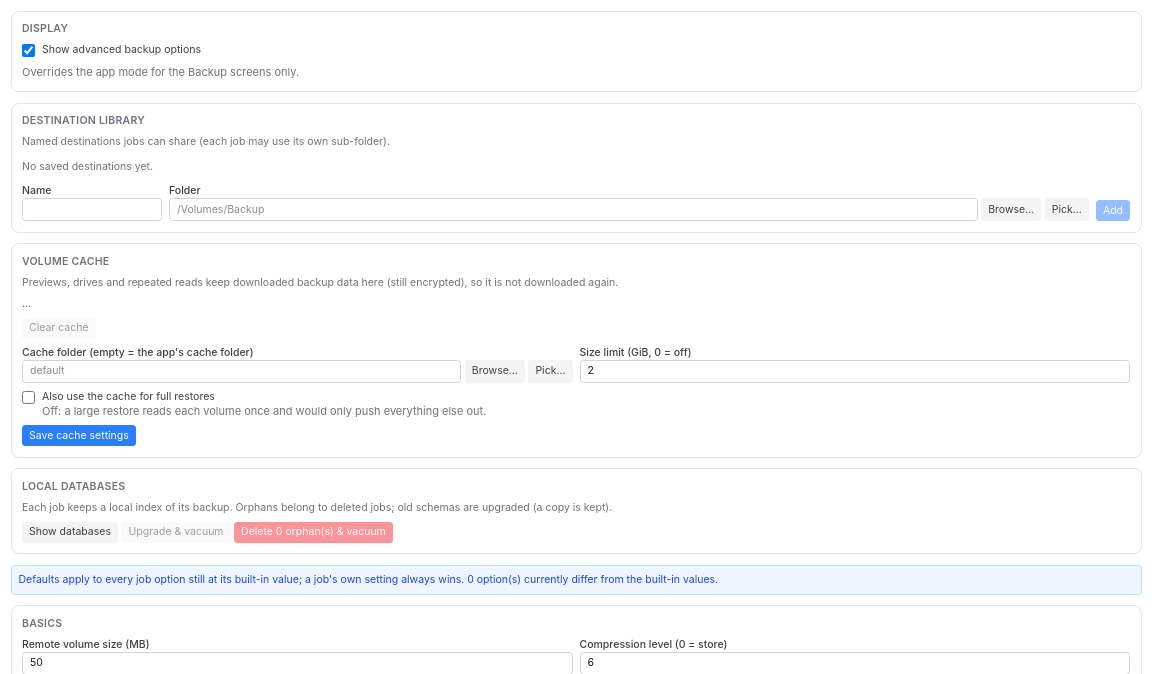
Test: database tools › lists databases and deletes orphans
Step 1. Click the button with test id "db-inventory" → {"x": 70, "y": 532}, box [22, 522, 118, 543]
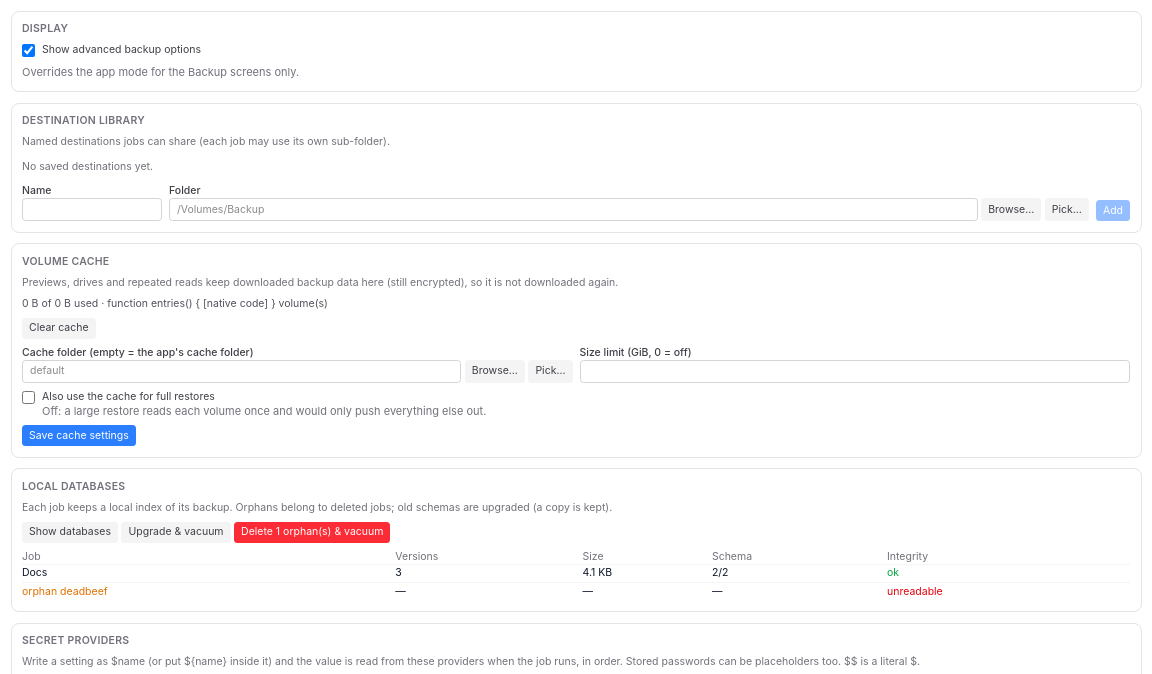
Expected: the text "orphan deadbeef" is shown, [22, 585, 108, 598]
Step 2. Click the button with test id "db-cleanup" → {"x": 312, "y": 532}, box [234, 522, 390, 543]
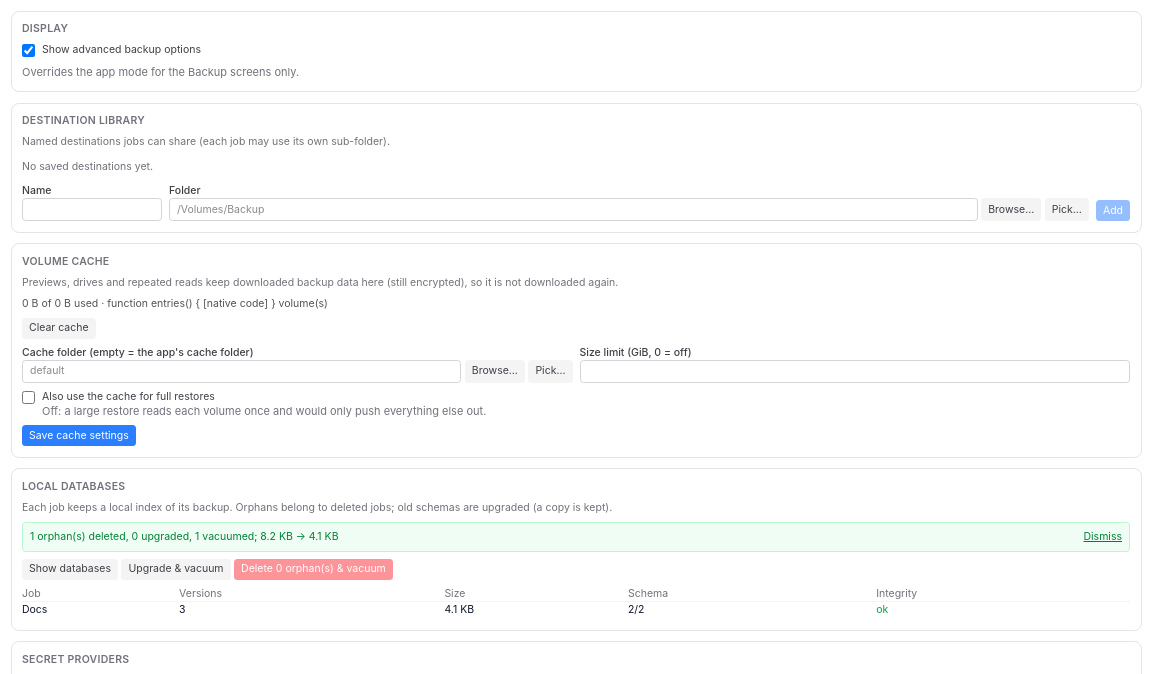
Expected: the text "1 orphan(s) deleted, 0 upgraded, 1 vacuumed; 8.2 KB → 4.1 KB" is shown, [30, 530, 338, 544]
Expected: the text "orphan deadbeef" is gone
